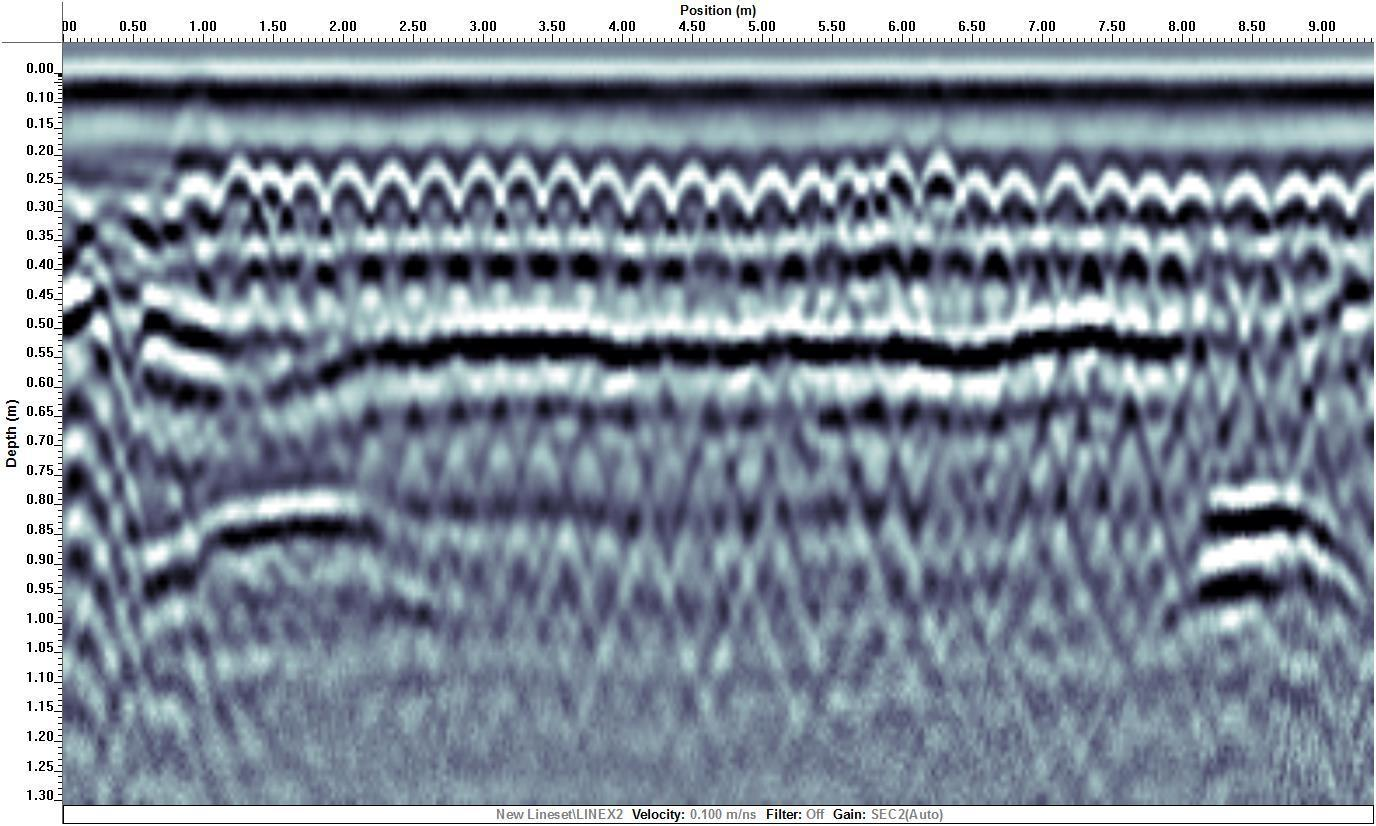hyperbola: (1218, 157, 1273, 243), (253, 149, 289, 235), (285, 156, 321, 242), (329, 144, 365, 230), (372, 153, 408, 239), (416, 147, 452, 233), (460, 143, 496, 229), (499, 139, 535, 225), (546, 144, 582, 230), (585, 151, 621, 237), (630, 145, 666, 231), (672, 145, 708, 231), (712, 154, 748, 240), (752, 154, 788, 240), (918, 134, 954, 220), (960, 153, 996, 239), (995, 155, 1031, 241), (1049, 149, 1085, 235), (1093, 145, 1129, 231), (1136, 153, 1172, 239), (1171, 155, 1207, 241), (1275, 160, 1311, 239), (1313, 162, 1349, 241)
